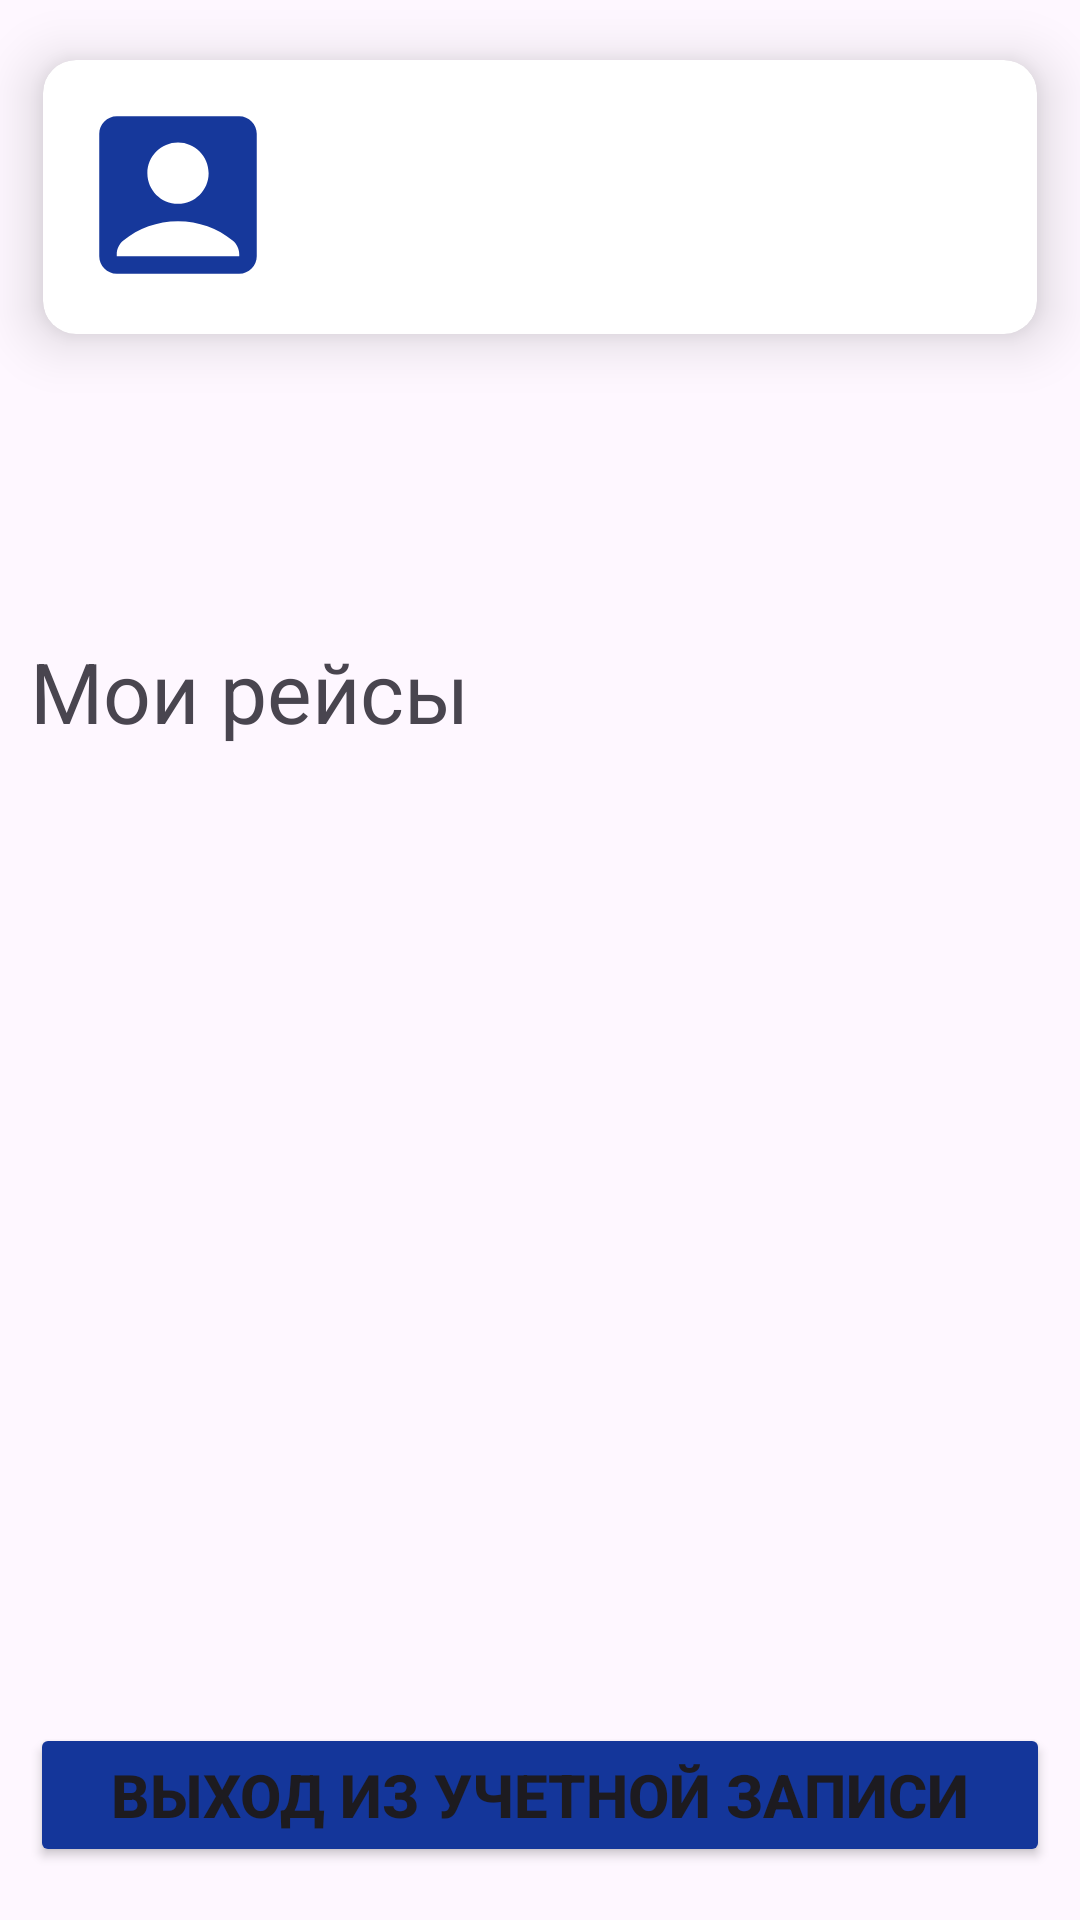

Named icons in this screenshot (1080 x 1920) and their bounding boxes, bbox=(x1, y1, x2, y2):
account box: bbox=(99, 116, 257, 274)
